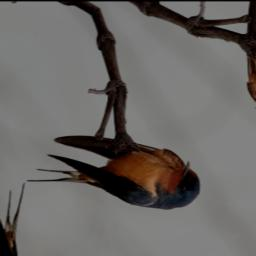Swallow: (18, 84, 213, 256)
